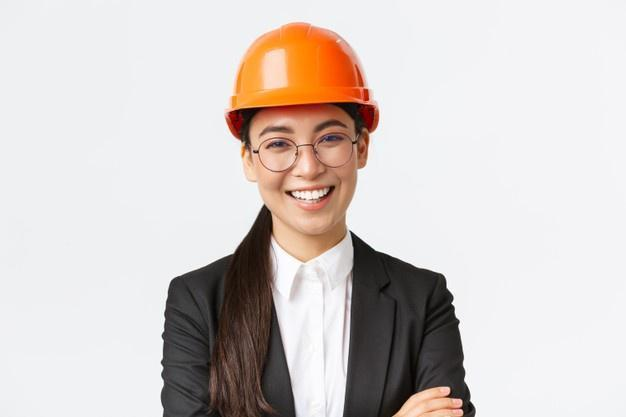helmet: (225, 23, 380, 134)
